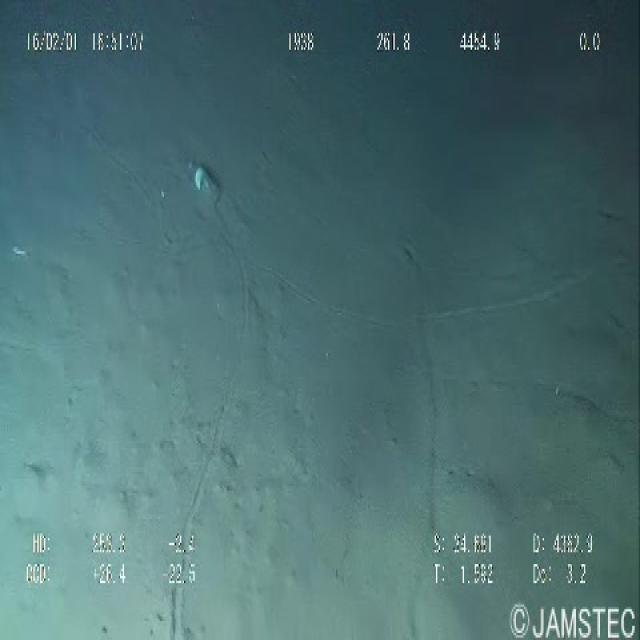plastic: (176, 147, 233, 220)
